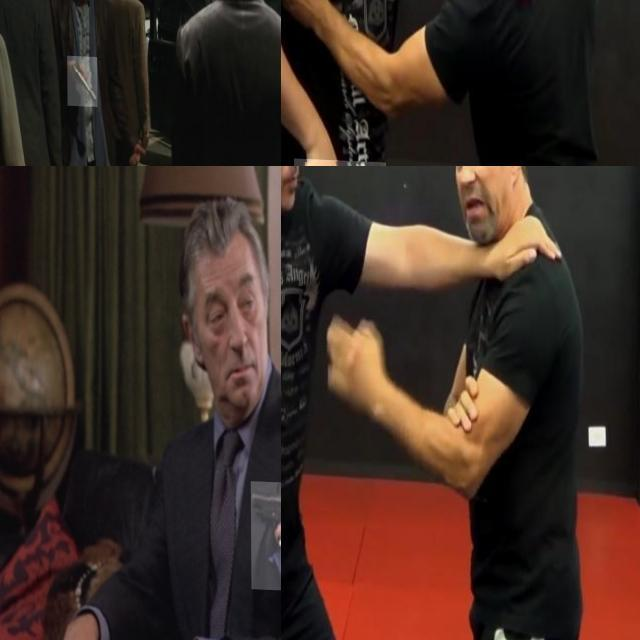-: (281, 497, 315, 634)
gun-knife-thesis - v11 Yolov5 augmented: (249, 478, 281, 588), (67, 54, 97, 104)
